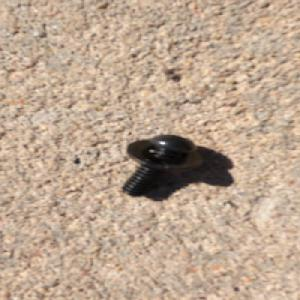BoltWasher: (119, 133, 208, 197)
